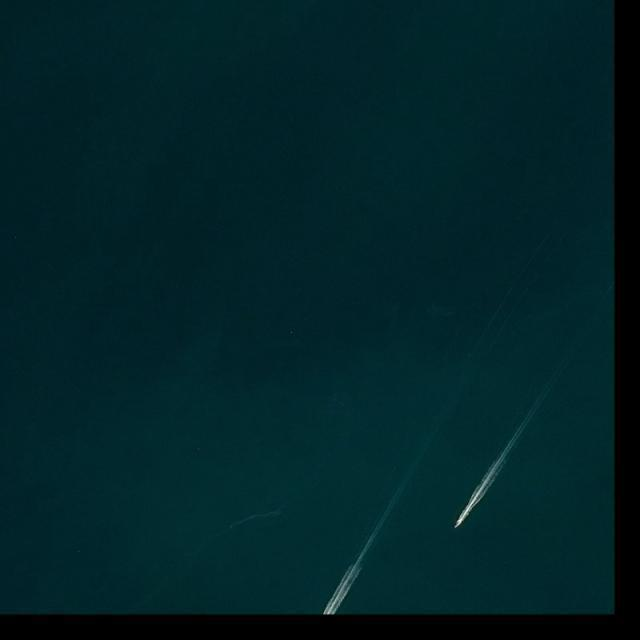ship: (454, 521, 460, 530)
